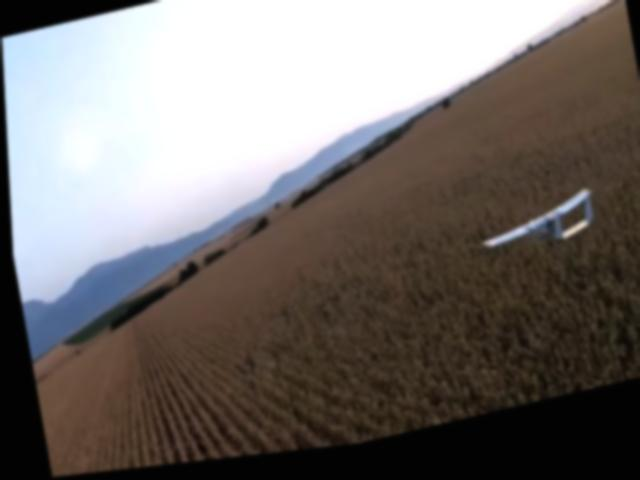uav: (469, 195, 605, 274)
